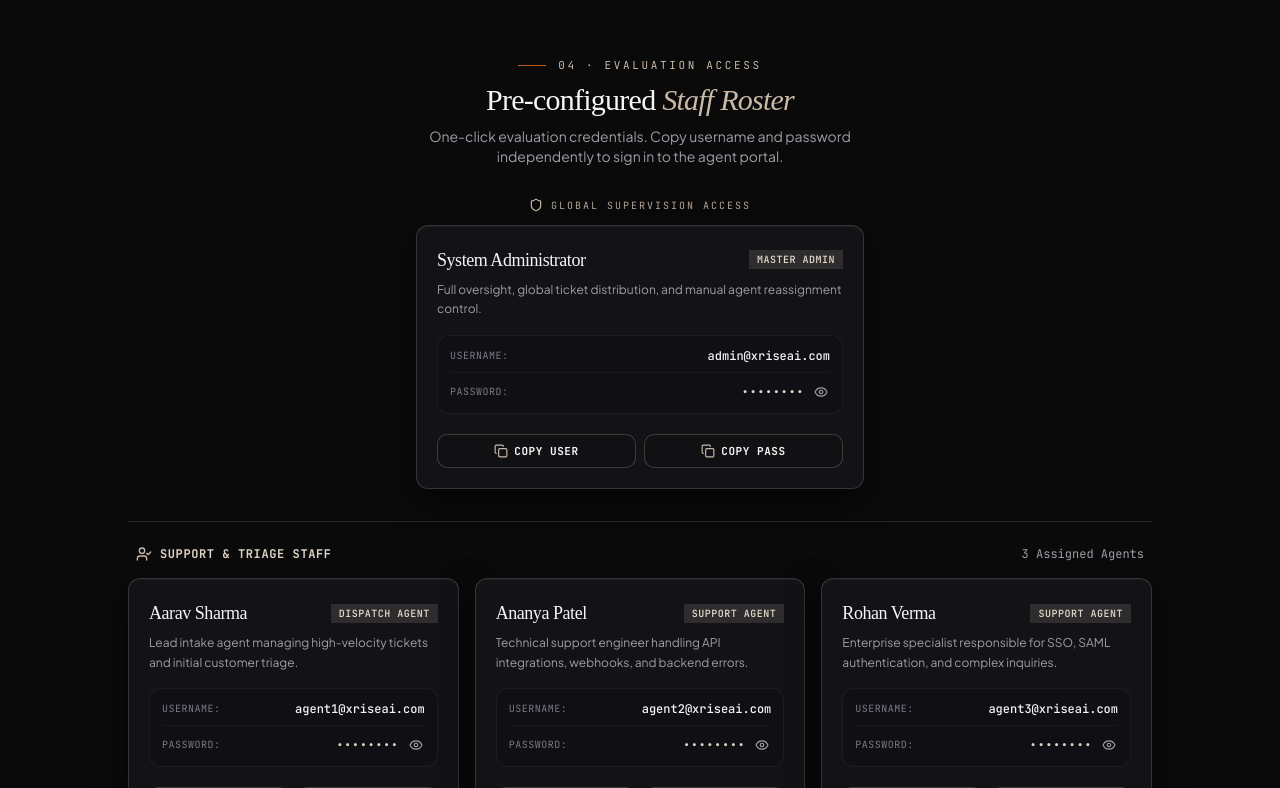
Test: EvaluationAccess Component › masks passwords by default and reveals them when eye toggle is clicked
Expected: the text "admin@123" is not shown
Expected: the text "agent1@123" is not shown
# Click toggle for Master Admin
Click the button named "Toggle password visibility for System Administrator" at {"x": 821, "y": 392}, box top-left (812, 383), bottom-right (830, 401)
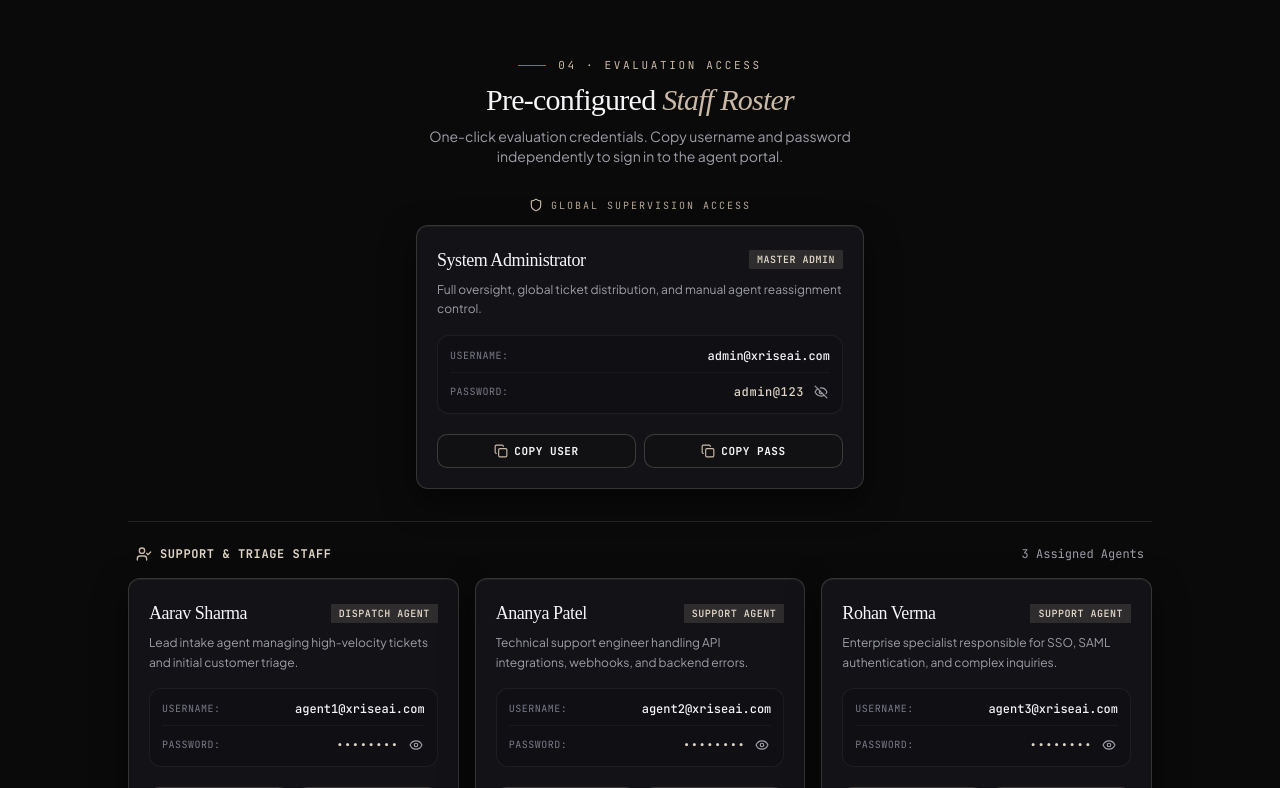
Now the text "admin@123" is shown, box top-left (734, 384), bottom-right (804, 400)
# Click toggle again to hide
Click the button named "Toggle password visibility for System Administrator" at {"x": 821, "y": 392}, box top-left (812, 383), bottom-right (830, 401)
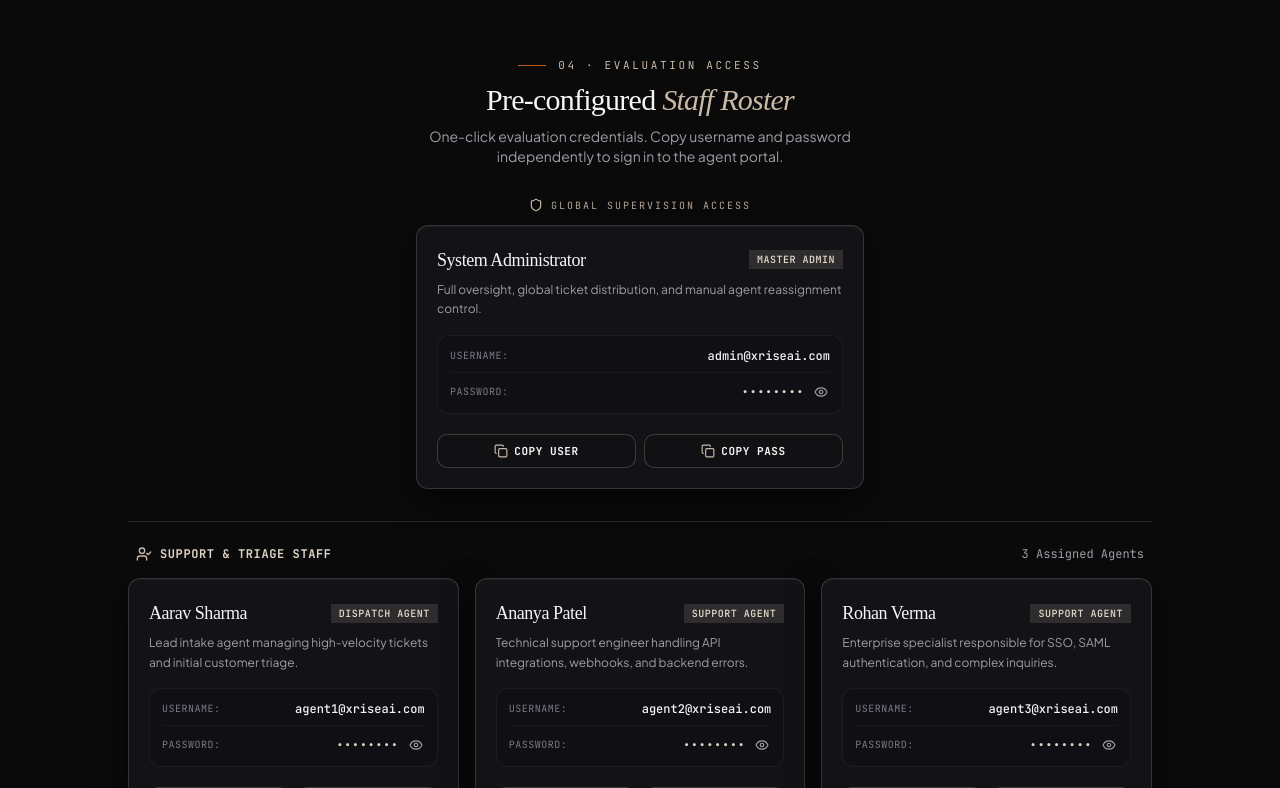
Now the text "admin@123" is gone
# Click toggle for Agent 1
Click the button named "Toggle password visibility for Aarav Sharma" at {"x": 416, "y": 745}, box top-left (407, 736), bottom-right (425, 754)
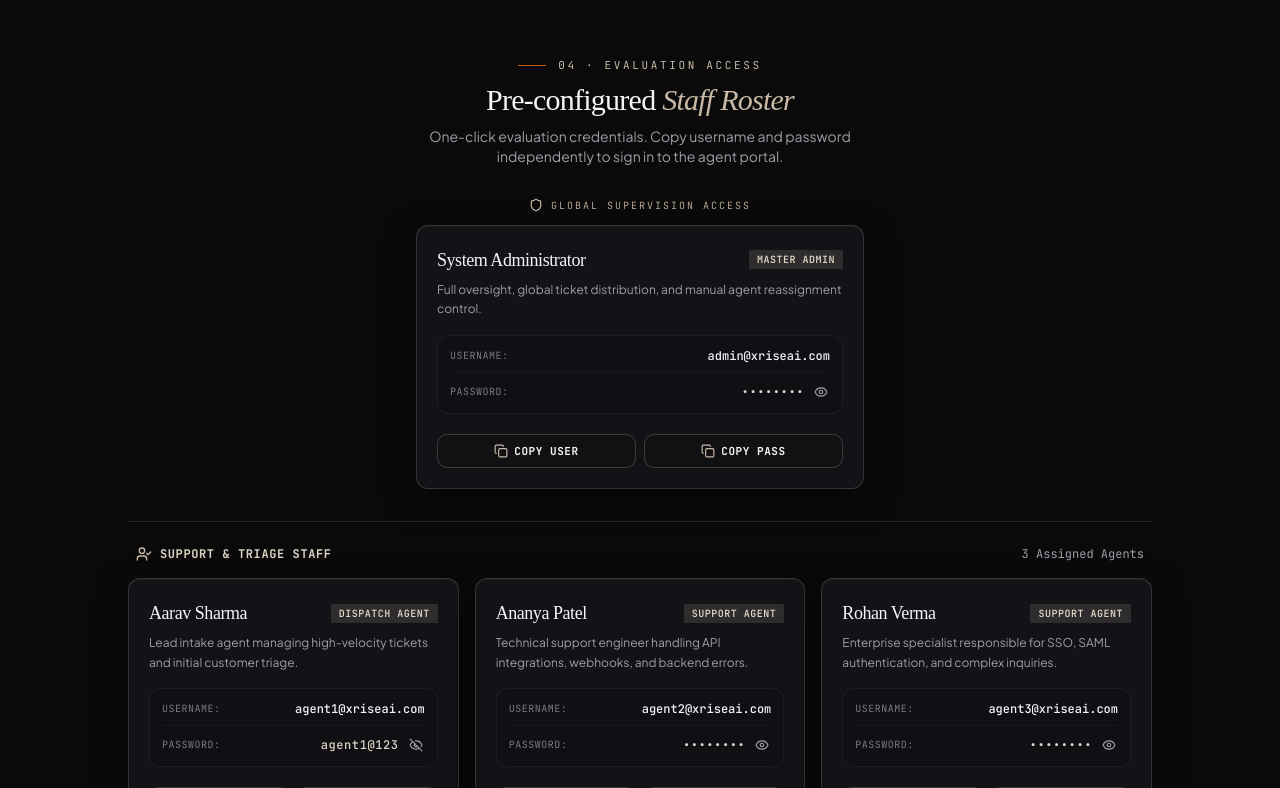
Now the text "agent1@123" is shown, box top-left (321, 737), bottom-right (399, 753)
